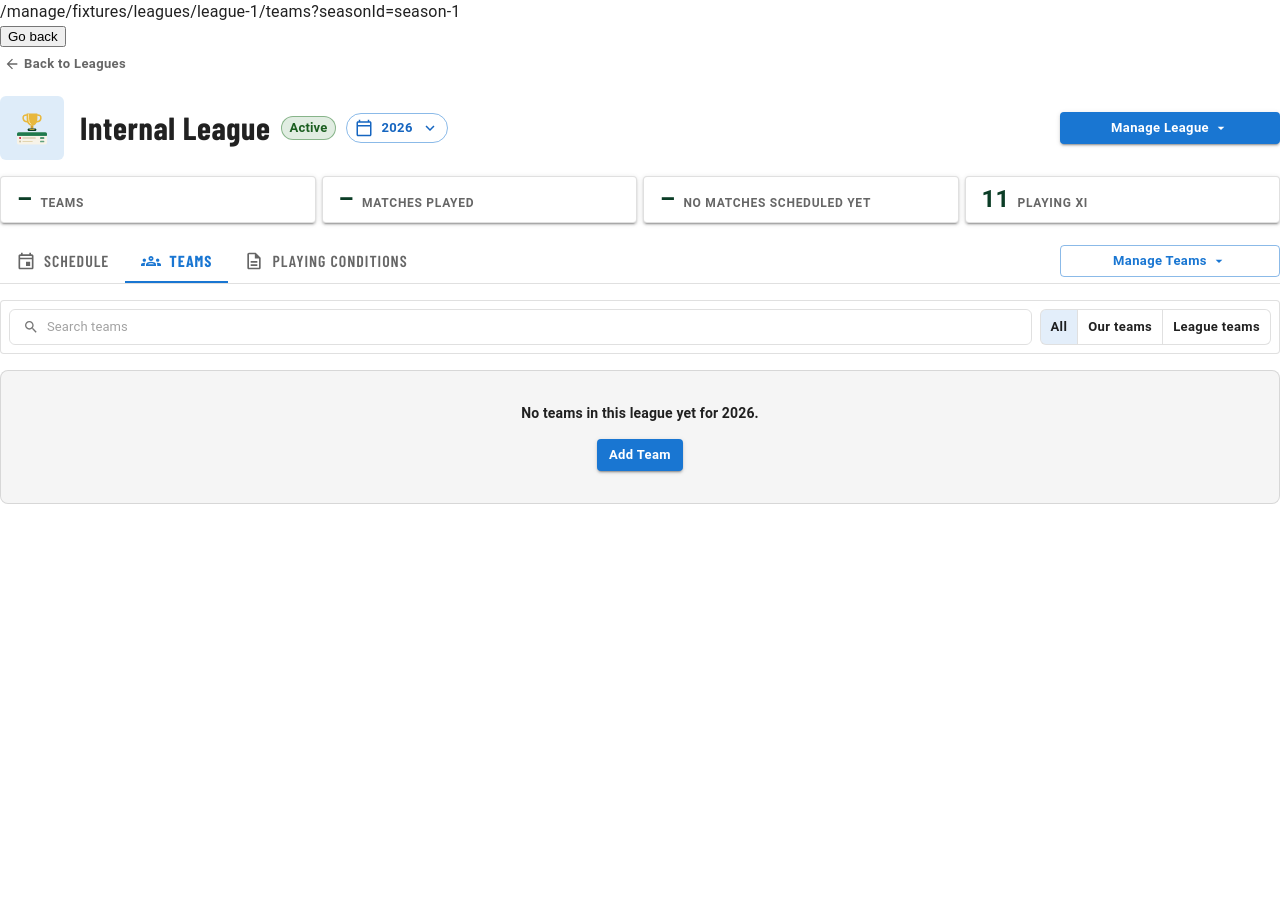
Test: LeagueViewLayout › header › opens the Add Team chooser from Manage Teams
The width and height of the screenshot is (1280, 900).
Click the button "Manage Teams".
click(1170, 261)  # box [1060,245,1279,277]
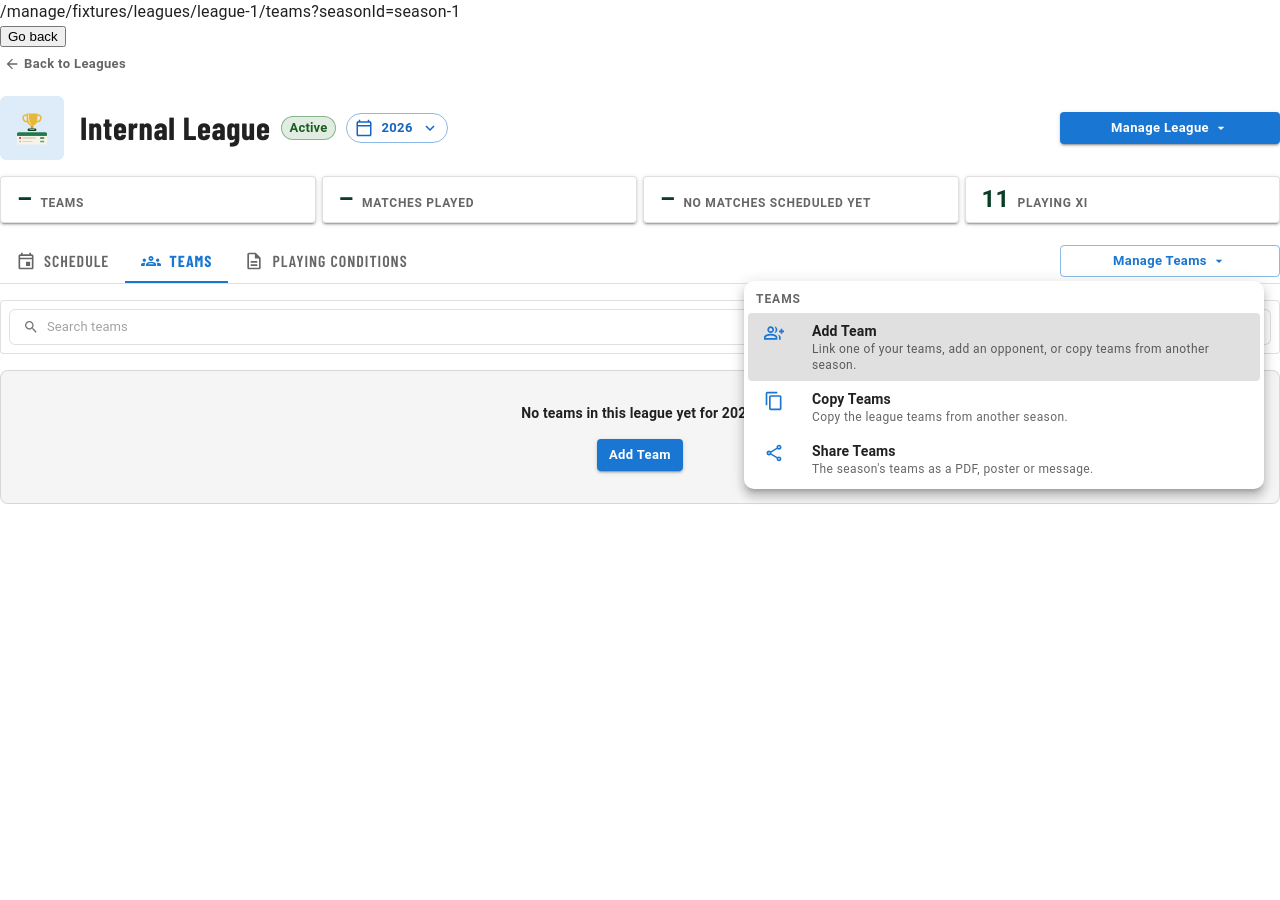
Click the menu item "Add Team".
click(1004, 347)  # box [748,313,1260,381]
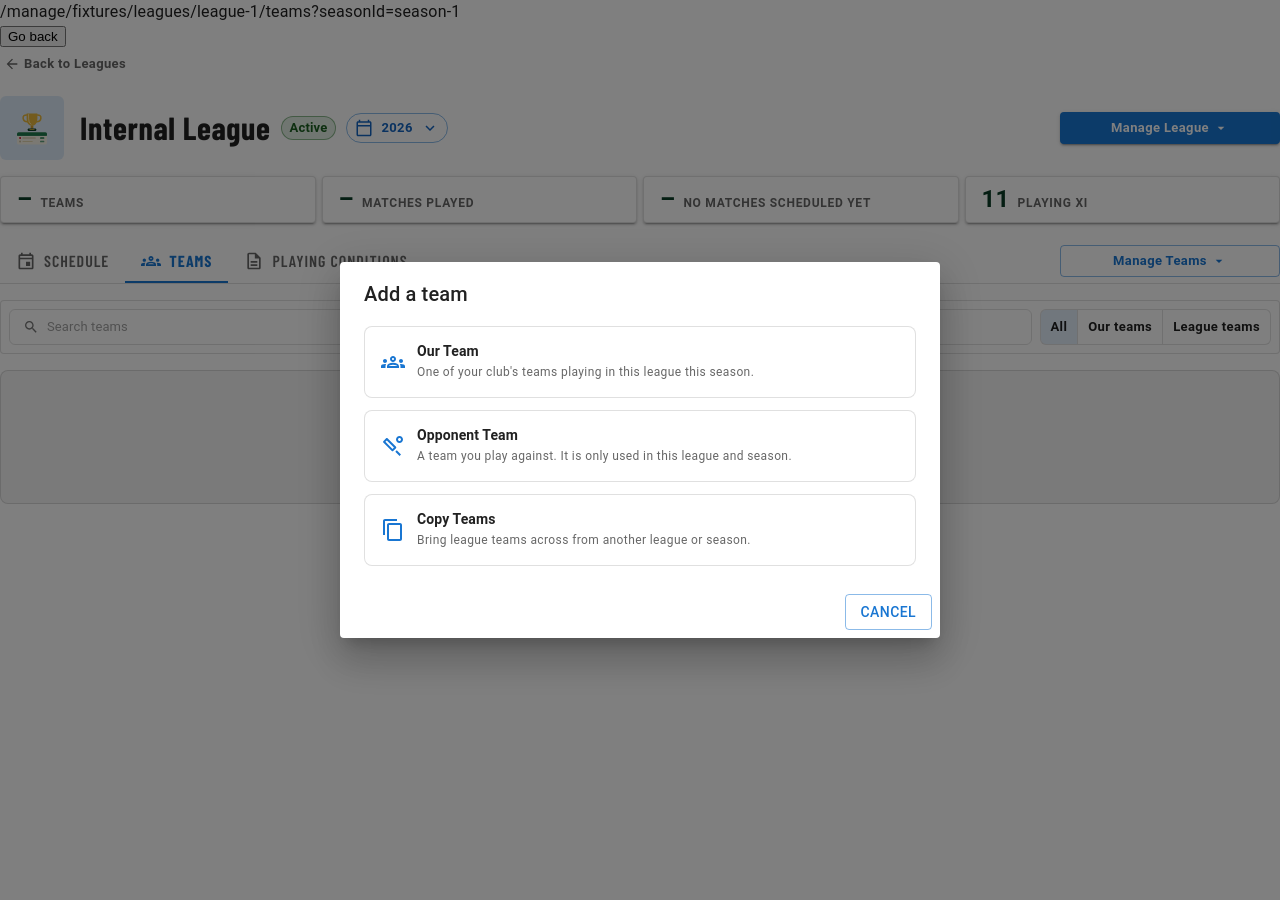
Expected: the dialog "Add a team" is shown, [340,262,940,638]
